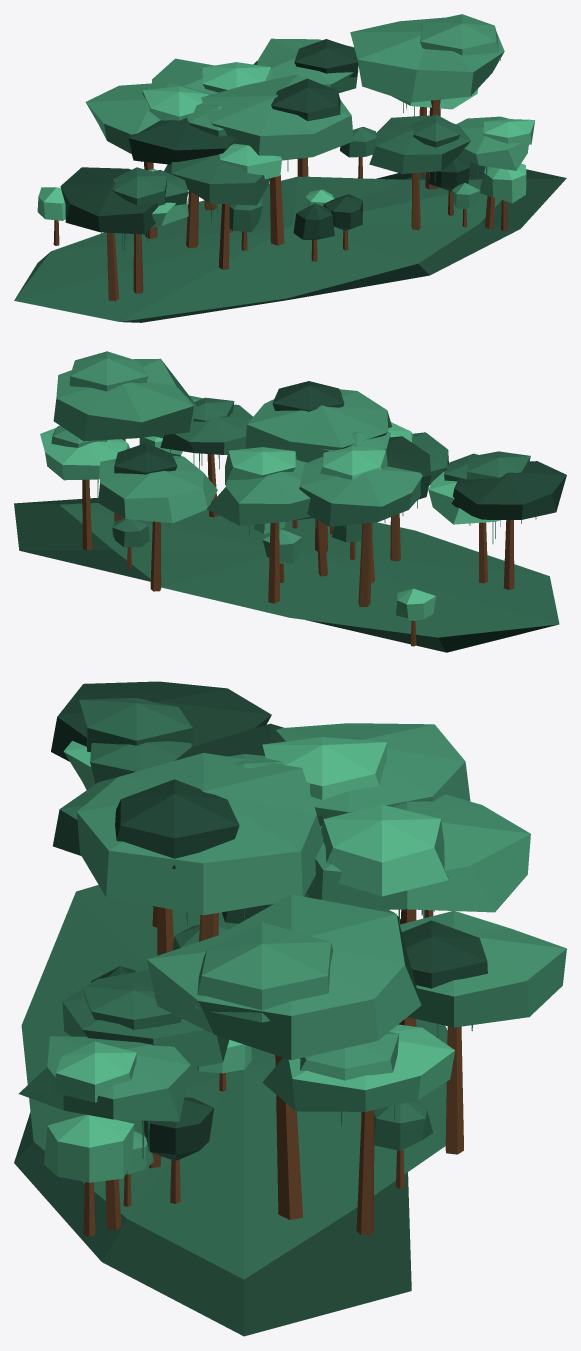
The model's file is W3_Mid_CanopyB.fbx.
3 renders of one model, top to bottom at view 1: azimuth 30°, elevation 25°; view 2: azimuth 150°, elevation 25°; view 3: azimuth 270°, elevation 25°, orthographic. The views are drawn at different scales.
Parts seen in each view (by area): view 1: W3_Mid_CanopyB; view 2: W3_Mid_CanopyB; view 3: W3_Mid_CanopyB.
Part boxes in pixels (<box>): W3_Mid_CanopyB: <box>14,14,566,322</box>; W3_Mid_CanopyB: <box>14,351,566,652</box>; W3_Mid_CanopyB: <box>14,681,566,1336</box>.
Size of the model in its own units: 136 by 41.17 by 67.13.
